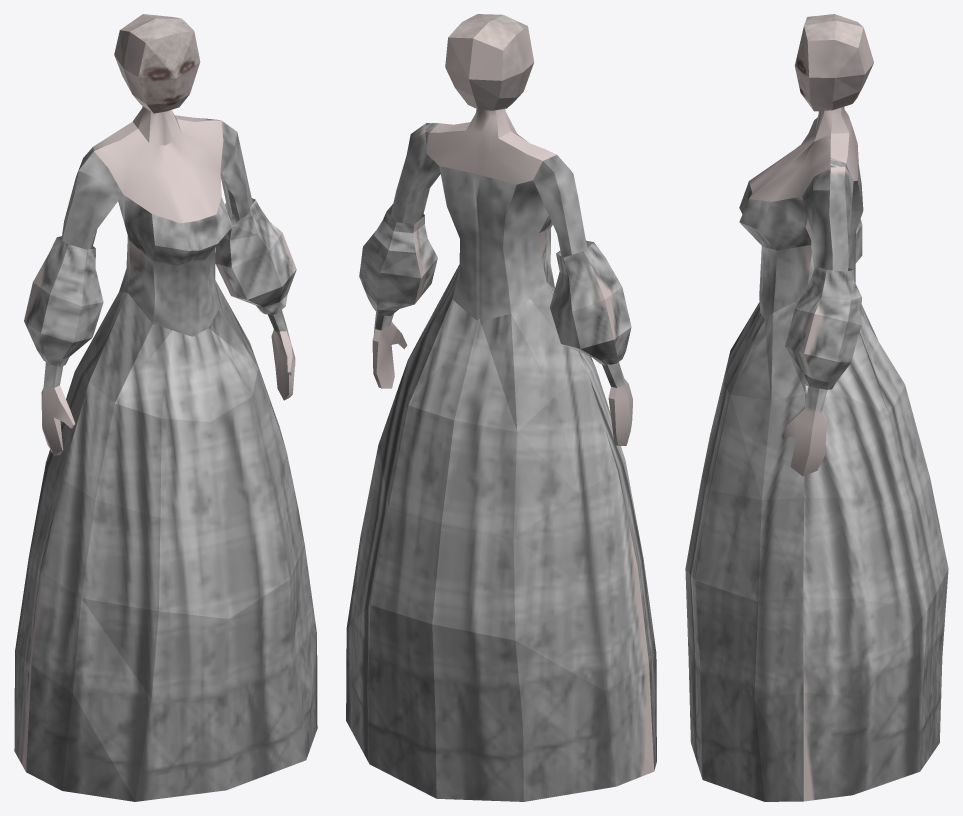
Rendered from La Pelada.fbx.
3 renders of one model, left to right at view 1: azimuth 30°, elevation 25°; view 2: azimuth 150°, elevation 25°; view 3: azimuth 270°, elevation 25°, orthographic. The views are drawn at different scales.
Visible parts, largest first — view 1: pelada_Completa; view 2: pelada_Completa; view 3: pelada_Completa.
Boxes of the visible parts, x1,y1,x2,y2 form: pelada_Completa: (14, 14, 317, 801); pelada_Completa: (346, 14, 656, 801); pelada_Completa: (685, 14, 948, 801).
Size of the model in its own units: 1.93 by 4.6 by 1.52.
